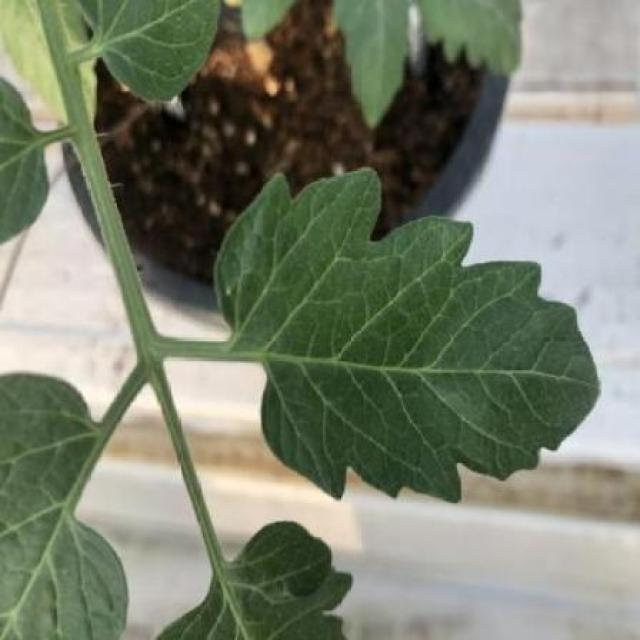Healthy: (215, 167, 599, 504)
